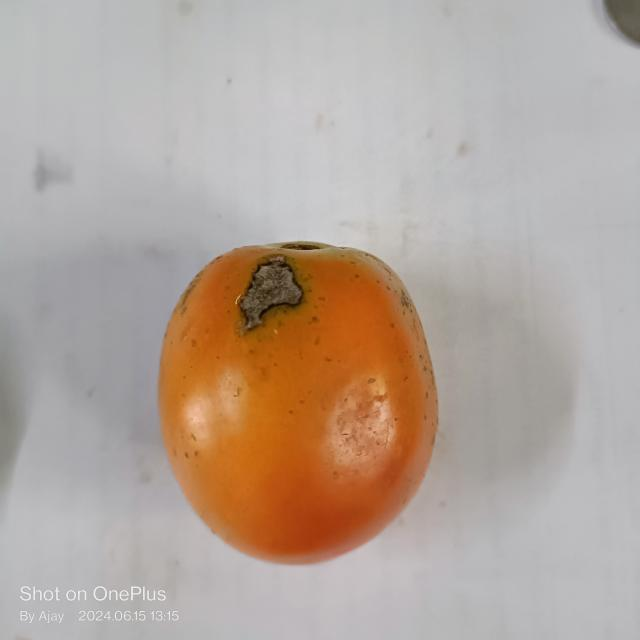Bacterial_Spot: (236, 254, 300, 338)
